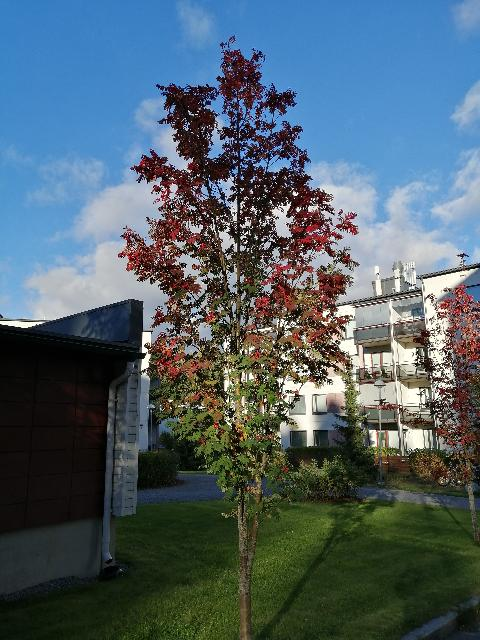rowan: (112, 28, 362, 640)
